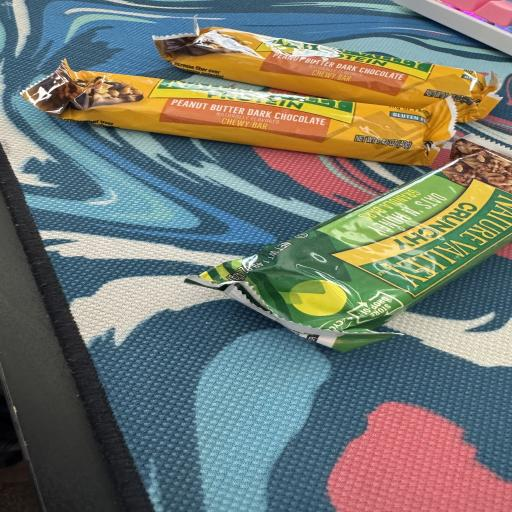granola: (186, 136, 511, 351), (22, 62, 455, 164), (154, 22, 500, 121)
